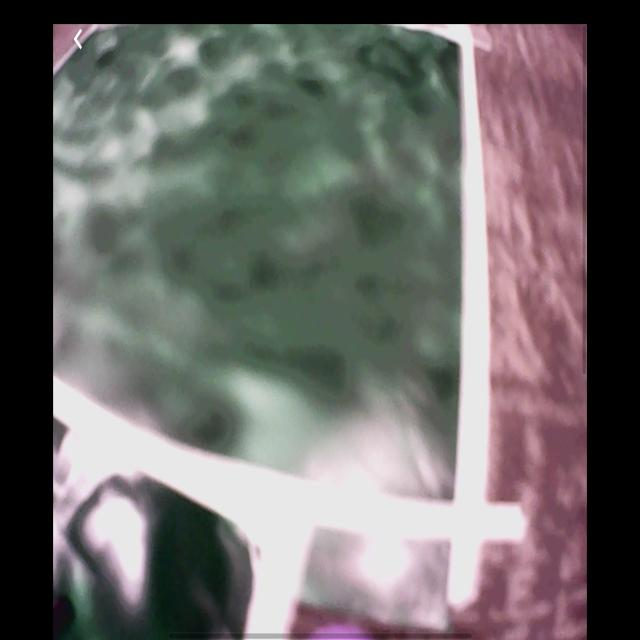ball: (308, 620, 375, 640)
